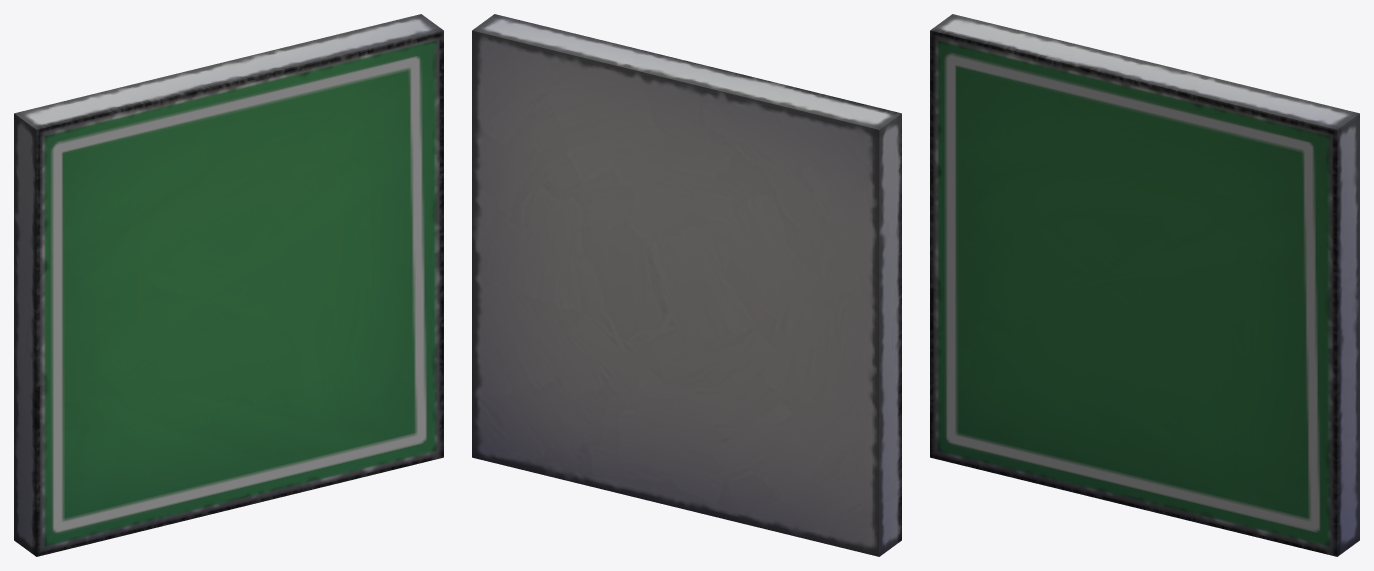
File: Sign_03.fbx
The picture shows the model from 3 angles, left to right: view 1: azimuth 30°, elevation 25°; view 2: azimuth 150°, elevation 25°; view 3: azimuth 330°, elevation 25°; orthographic projection.
Visible parts, largest first — view 1: Sign_03; view 2: Sign_03; view 3: Sign_03.
Part boxes in pixels (box(x1,y1,x2,y2)): Sign_03: box(14, 14, 443, 556); Sign_03: box(472, 14, 901, 556); Sign_03: box(930, 14, 1359, 556).
Size of the model in its own units: 0.6252 by 0.6264 by 0.06.
